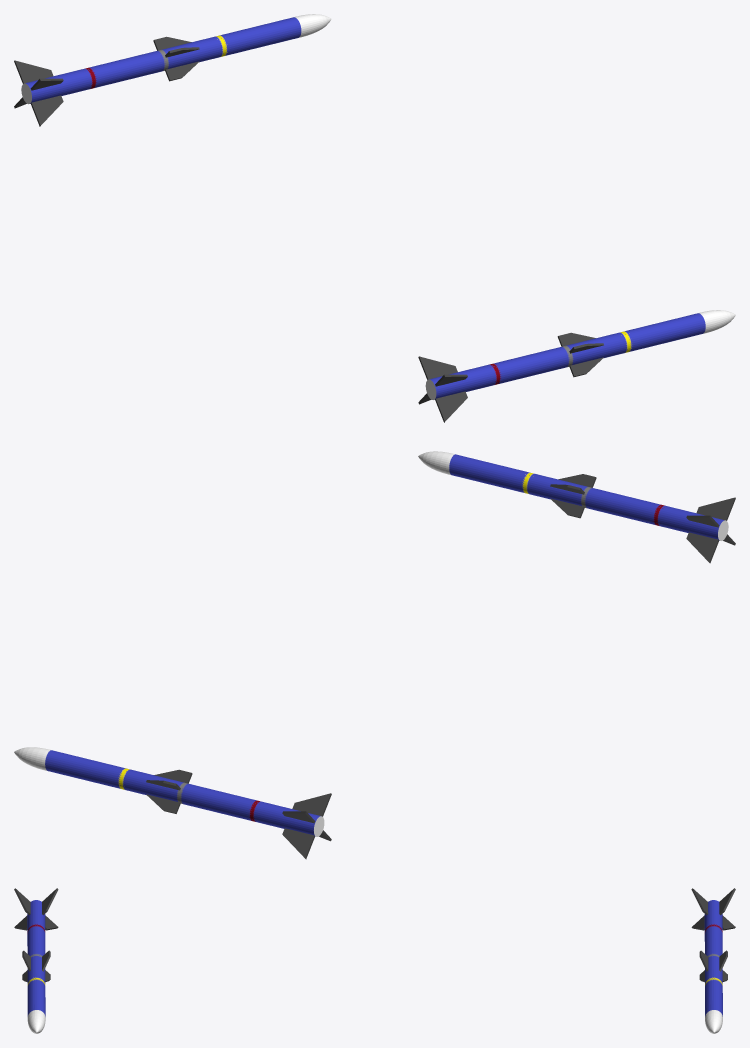
The model's file is aam4df2a16.glb.
3 renders of one model, top to bottom at view 1: azimuth 30°, elevation 25°; view 2: azimuth 150°, elevation 25°; view 3: azimuth 270°, elevation 25°, orthographic. The views are drawn at different scales.
Visible parts, largest first — view 1: 球.001, 球.004; view 2: 球.004, 球.001; view 3: 球.004, 球.001.
Boxes of the visible parts, bbox=[...] form: 球.001: bbox=[14, 14, 331, 126]; 球.004: bbox=[418, 310, 735, 422]; 球.004: bbox=[418, 451, 735, 563]; 球.001: bbox=[14, 747, 331, 859]; 球.004: bbox=[14, 888, 58, 1033]; 球.001: bbox=[691, 888, 735, 1033].
Bounding box in the file's own units: 4.82 × 0.7294 × 11.78.
3 materials, 1 textured.
